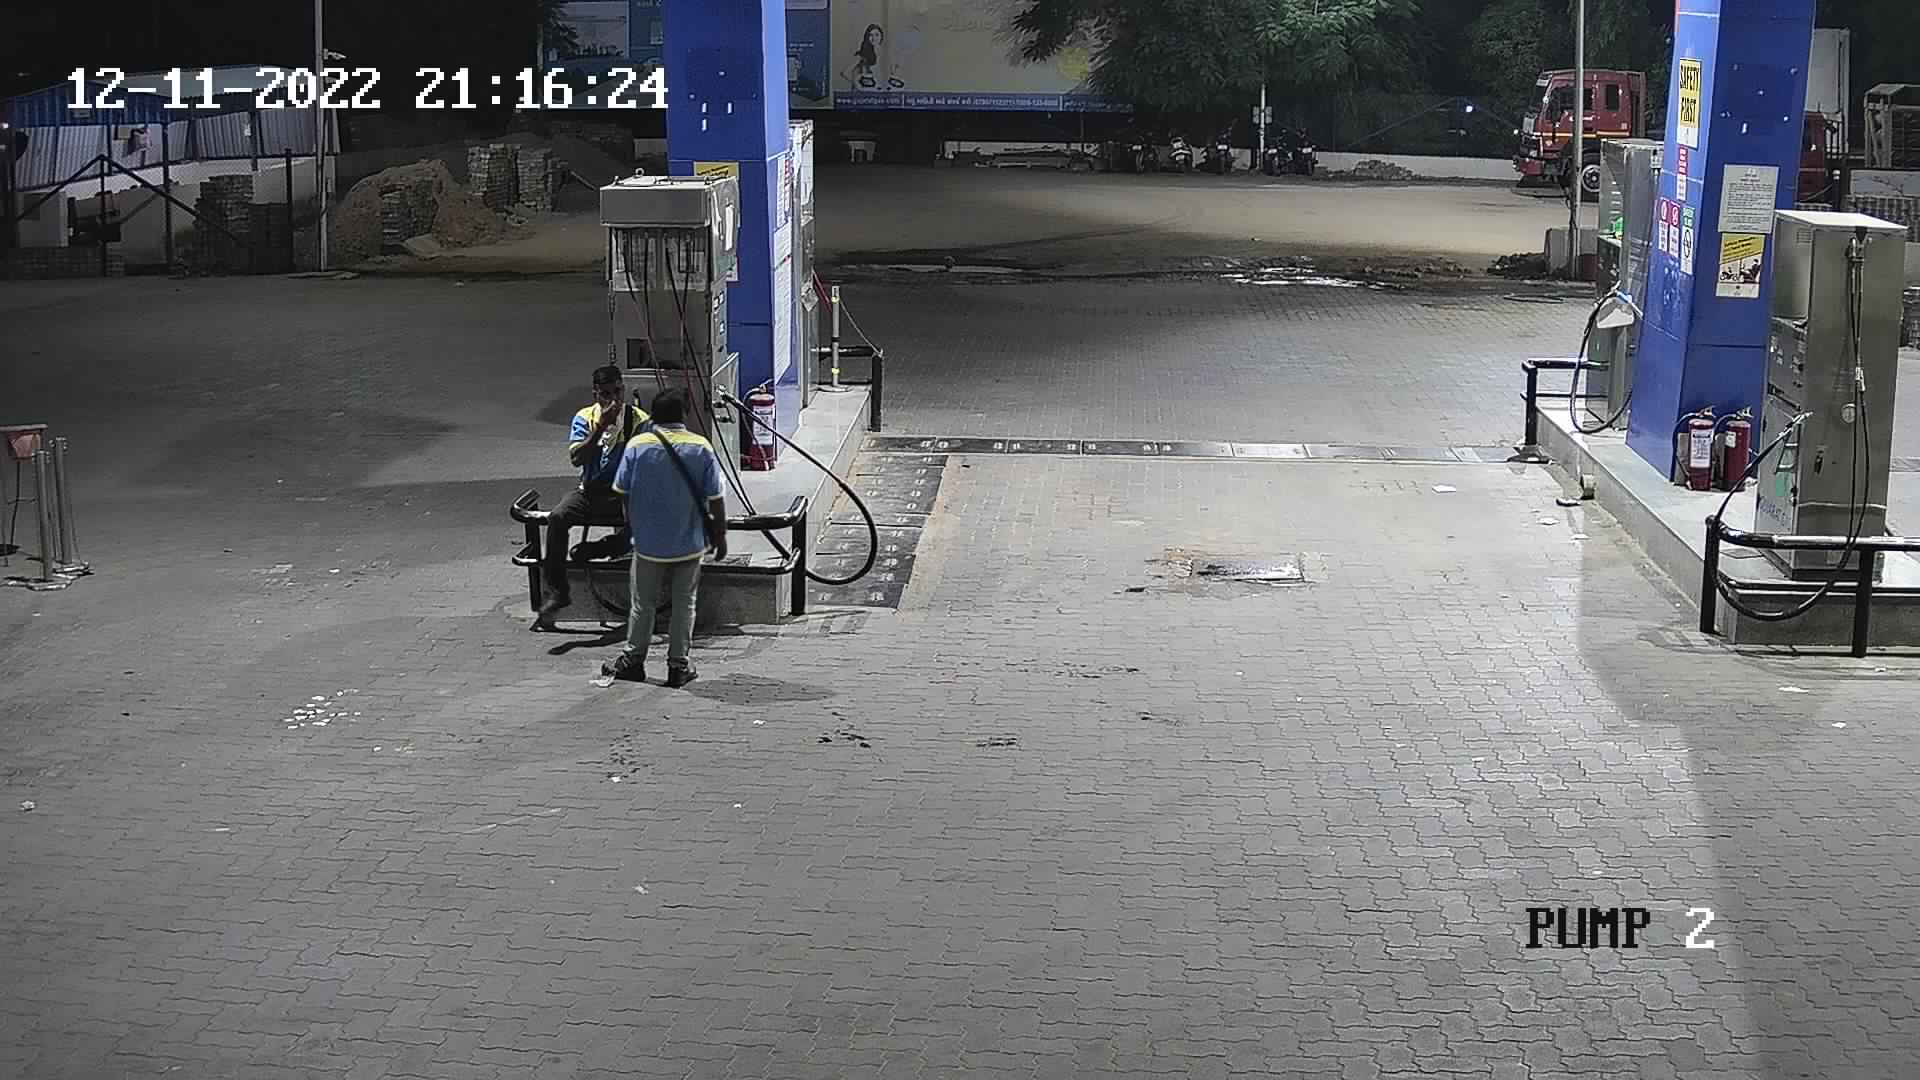Bike: (1156, 109, 1204, 173), (1251, 117, 1298, 182), (1120, 116, 1164, 177), (1197, 120, 1247, 173), (1283, 116, 1328, 173)
HMV: (1494, 41, 1675, 212), (1780, 59, 1917, 227)
Others: (603, 378, 727, 688), (531, 357, 654, 612)
